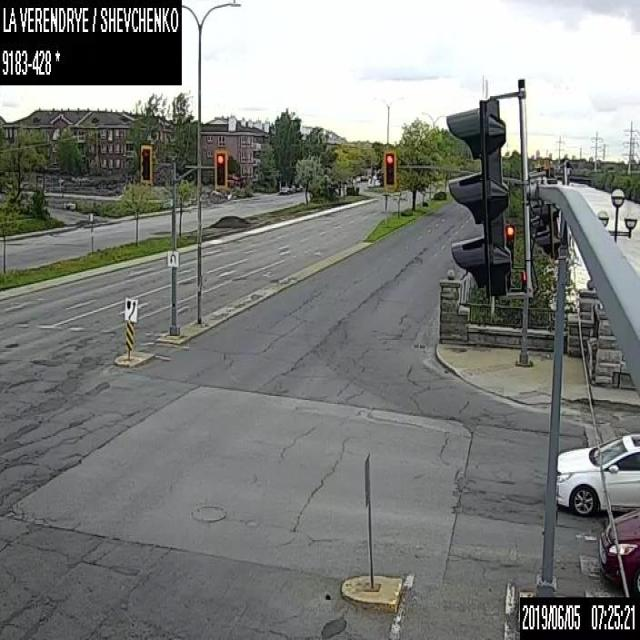vehicle: (553, 431, 639, 516), (598, 507, 639, 593), (278, 184, 288, 193), (294, 182, 302, 191), (287, 183, 295, 192)
